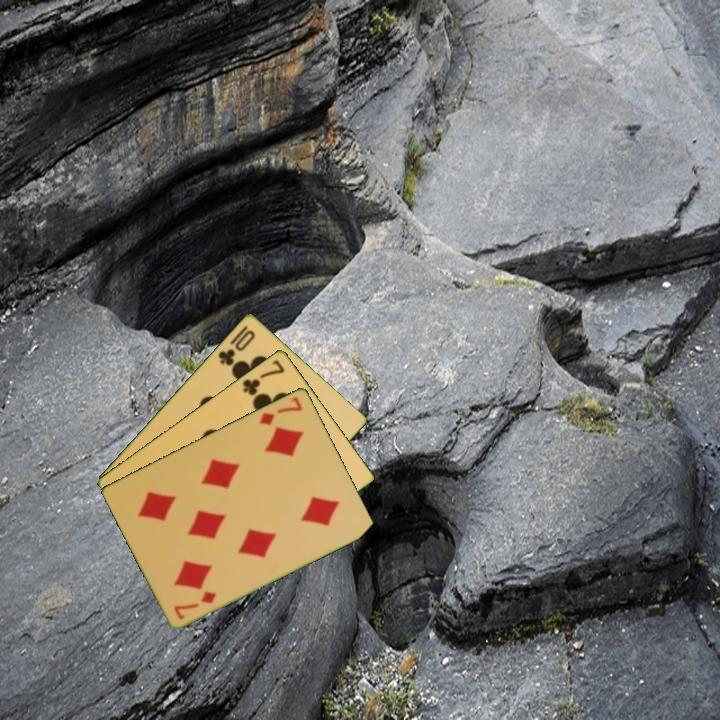10c: (214, 326, 258, 369)
7c: (239, 356, 288, 398)
7d: (256, 393, 306, 428), (170, 587, 220, 622)
